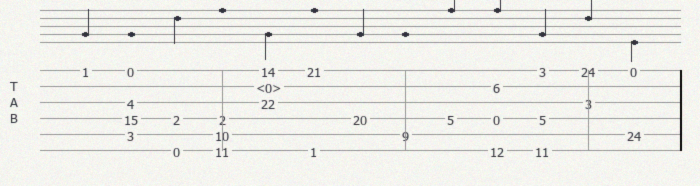0: (127, 64, 138, 77), (173, 144, 184, 157), (493, 112, 504, 125), (630, 64, 641, 77)
1: (82, 64, 93, 77), (310, 144, 321, 157)
10: (215, 128, 233, 141)
11: (215, 144, 233, 157), (535, 144, 553, 157)
12: (490, 144, 508, 157)
14: (261, 64, 279, 77)
15: (124, 112, 142, 125)
2: (173, 112, 184, 125), (219, 112, 230, 125)
20: (353, 112, 371, 125)
21: (307, 64, 325, 77)
22: (261, 96, 279, 109)
24: (581, 64, 599, 77), (627, 128, 645, 141)
3: (127, 128, 138, 141), (539, 64, 550, 77), (585, 96, 596, 109)
4: (127, 96, 138, 109)
5: (447, 112, 458, 125), (539, 112, 550, 125)
6: (493, 80, 504, 93)
9: (402, 128, 413, 141)
harmonic: (256, 80, 285, 93)
